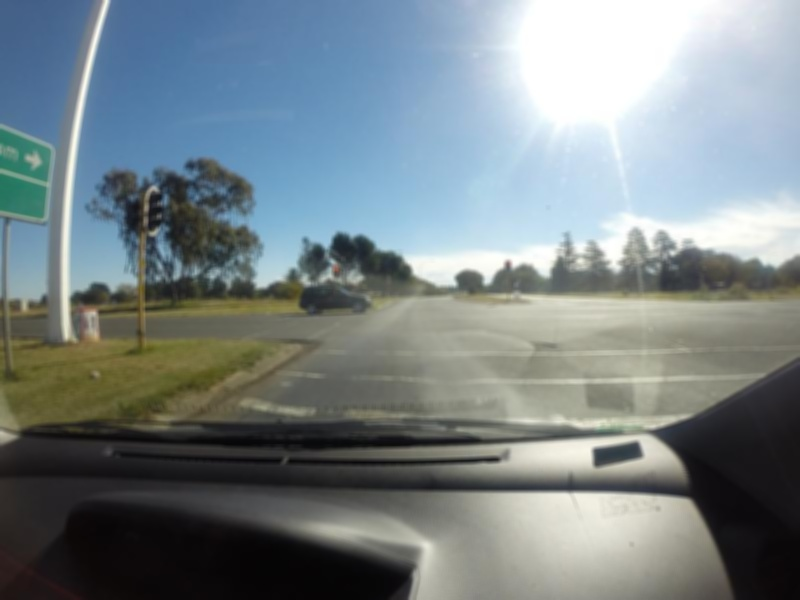pothole: (528, 341, 562, 350)
